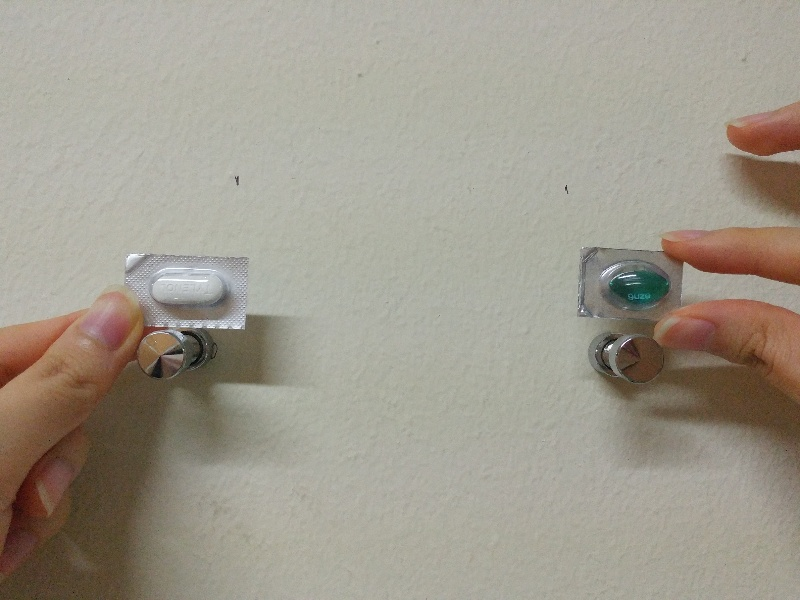pill_ezn: (580, 249, 686, 321)
pill_tylenol: (127, 253, 248, 330)
